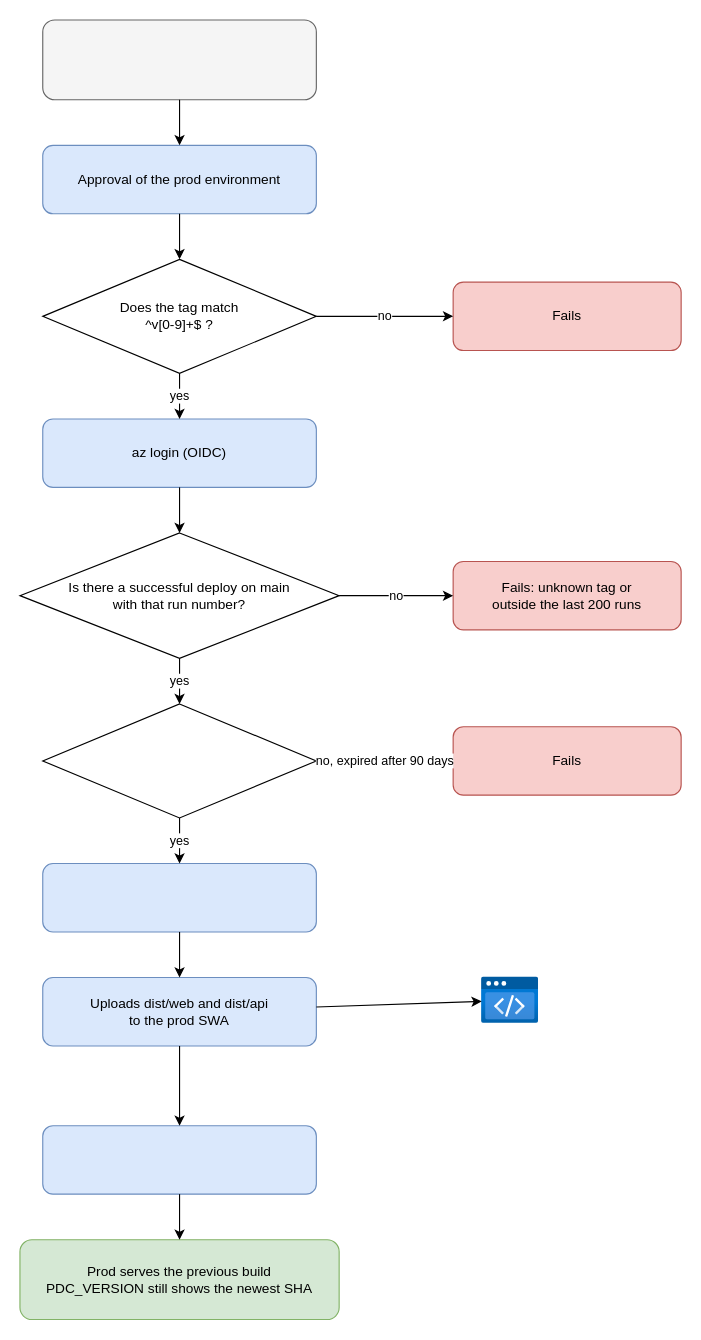
This 701x1340 diagram has some shape labels left out. Each missing label, with the centre of its shape:
"Does the release-vN artifact still exist?" goes at [179,760].
"GitHub Actions Run rollback.yml from main with the tag, for example v12" goes at [179,59].
"Reads the SWA token and host" goes at [179,897].
"Static Web Apps (prod)" goes at [509,999].
"Waits for /api/health and runs the read-only smoke" goes at [179,1159].
